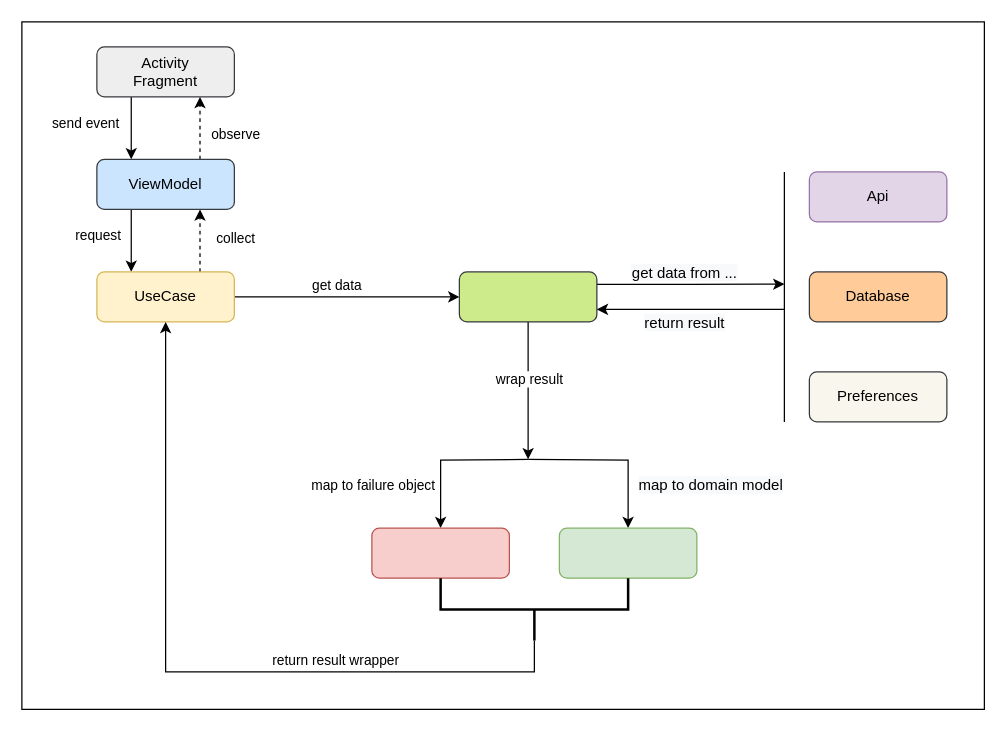
Image size: 1006x731. Some labels were removed from this diagram. The centre of each missing label's shape, as x and y in pixels:
"Failure" belongs at pixel 440 552.
"RepositoryImpl" belongs at pixel 527 296.
"Success" belongs at pixel 627 552.
